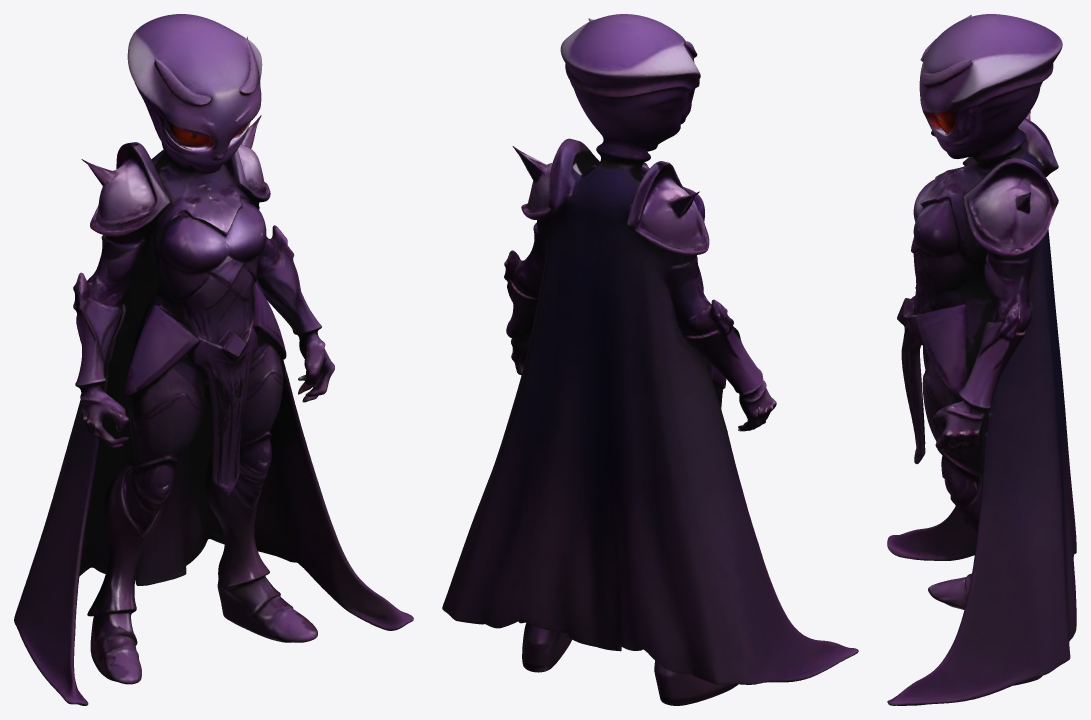
Rendered from nyxara.glb.
The picture shows the model from 3 angles, left to right: view 1: azimuth 30°, elevation 25°; view 2: azimuth 150°, elevation 25°; view 3: azimuth 270°, elevation 25°; orthographic projection. The views are drawn at different scales.
Parts seen in each view (by area): view 1: root; view 2: root; view 3: root.
Boxes of the visible parts, x1,y1,x2,y2 form: root: (14, 14, 413, 705); root: (442, 14, 858, 705); root: (887, 14, 1076, 705).
Size of the model in its own units: 11 by 18.96 by 5.22.
Materials: 1 (1 with a texture image).
